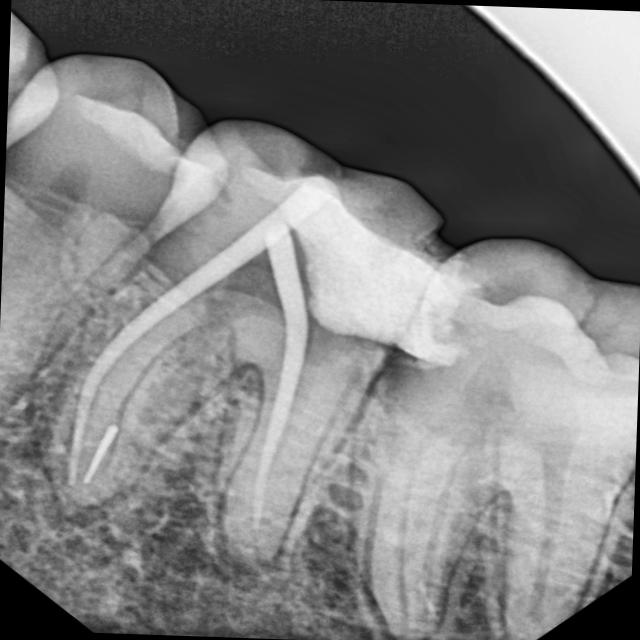RCT: (40, 102, 454, 567)
